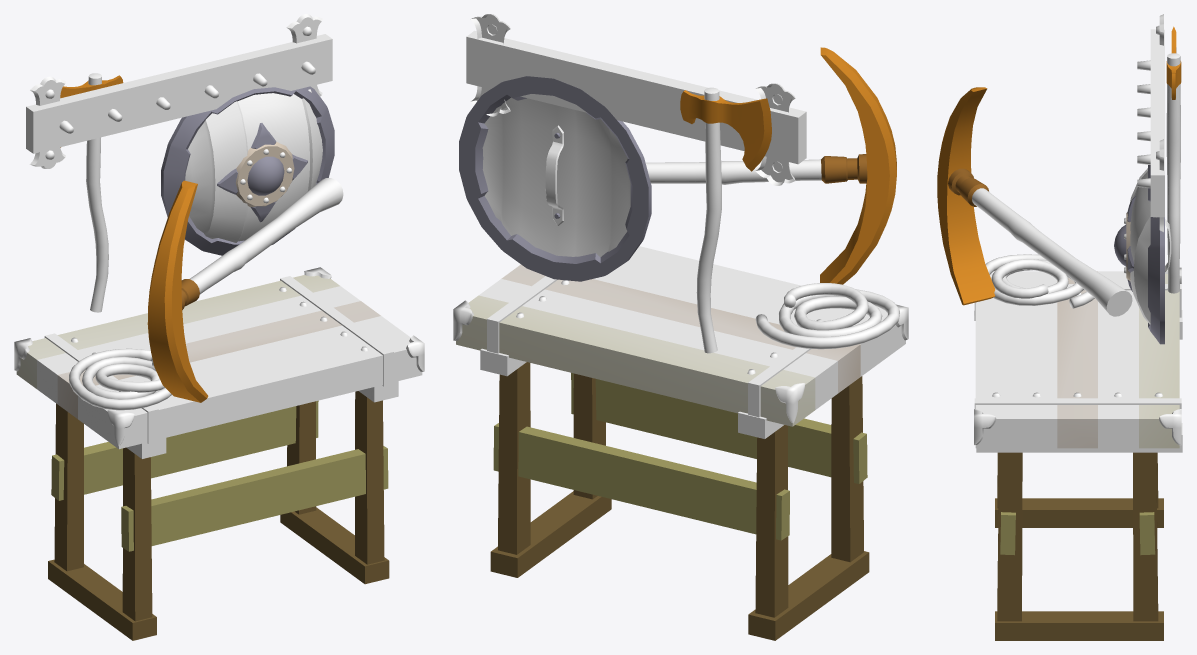
File: tool_rack.glb
The picture shows the model from 3 angles, left to right: view 1: azimuth 30°, elevation 25°; view 2: azimuth 150°, elevation 25°; view 3: azimuth 270°, elevation 25°; orthographic projection. The views are drawn at different scales.
Visible parts, largest first — view 1: Cube163, Cube201, Cube193, Pickaxe_Bronze, Cube193_1, Rope_1, Cube163_1, Axe_Bronze, Cube201_1; view 2: Cube163, Cube193, Cube201, Cube193_1, Pickaxe_Bronze, Axe_Bronze, Rope_1, Cube163_1, Cube201_1, Cube193_2; view 3: Cube163, Pickaxe_Bronze, Axe_Bronze, Rope_1, Cube163_1, Cube193_1, Cube201, Cube193, Cube201_1.
Boxes of the visible parts, x1=… form: Cube163: x1=16, y1=275, x2=422, y2=640; Cube201: x1=26, y1=34, x2=332, y2=153; Cube193: x1=185, y1=93, x2=322, y2=242; Pickaxe_Bronze: x1=147, y1=178, x2=343, y2=402; Cube193_1: x1=161, y1=86, x2=334, y2=255; Rope_1: x1=69, y1=348, x2=171, y2=410; Cube163_1: x1=14, y1=267, x2=424, y2=446; Axe_Bronze: x1=60, y1=73, x2=123, y2=312; Cube201_1: x1=30, y1=14, x2=322, y2=168; Cube163: x1=456, y1=246, x2=905, y2=640; Cube193: x1=482, y1=97, x2=630, y2=256; Cube201: x1=466, y1=30, x2=806, y2=164; Cube193_1: x1=459, y1=76, x2=651, y2=281; Pickaxe_Bronze: x1=645, y1=47, x2=896, y2=284; Axe_Bronze: x1=680, y1=87, x2=771, y2=353; Rope_1: x1=755, y1=283, x2=899, y2=349; Cube163_1: x1=453, y1=276, x2=908, y2=423; Cube201_1: x1=470, y1=14, x2=795, y2=185; Cube193_2: x1=545, y1=125, x2=563, y2=225; Cube163: x1=975, y1=271, x2=1182, y2=640; Pickaxe_Bronze: x1=937, y1=87, x2=1132, y2=316; Axe_Bronze: x1=1166, y1=26, x2=1181, y2=293; Rope_1: x1=985, y1=254, x2=1094, y2=308; Cube163_1: x1=974, y1=267, x2=1181, y2=445; Cube193_1: x1=1114, y1=165, x2=1164, y2=344; Cube201: x1=1150, y1=29, x2=1164, y2=217; Cube193: x1=1130, y1=168, x2=1150, y2=324; Cube201_1: x1=1137, y1=14, x2=1163, y2=232.
Size of the model in its own units: 1.27 by 1.9 by 0.8425.
